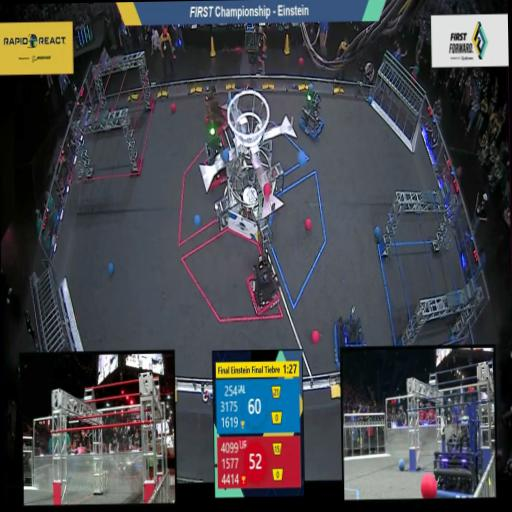robot: (431, 426, 483, 504), (246, 246, 282, 318), (332, 306, 366, 364), (299, 88, 325, 138), (202, 89, 228, 138), (202, 142, 229, 188)
